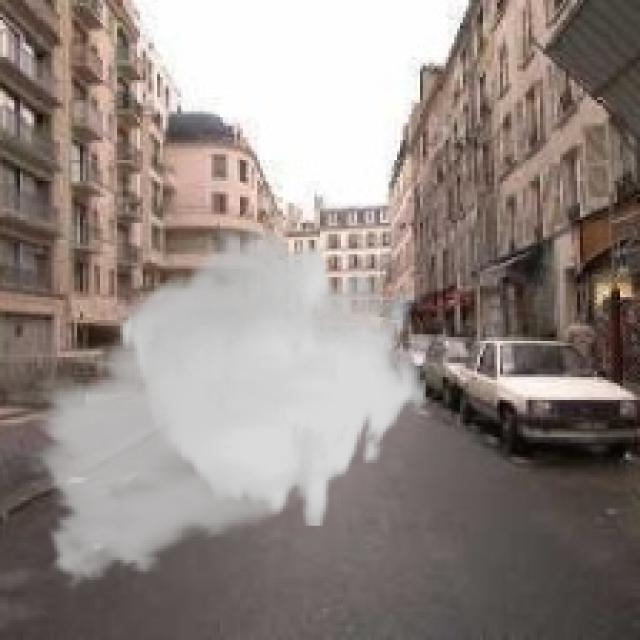Smoke: (26, 222, 428, 598)
